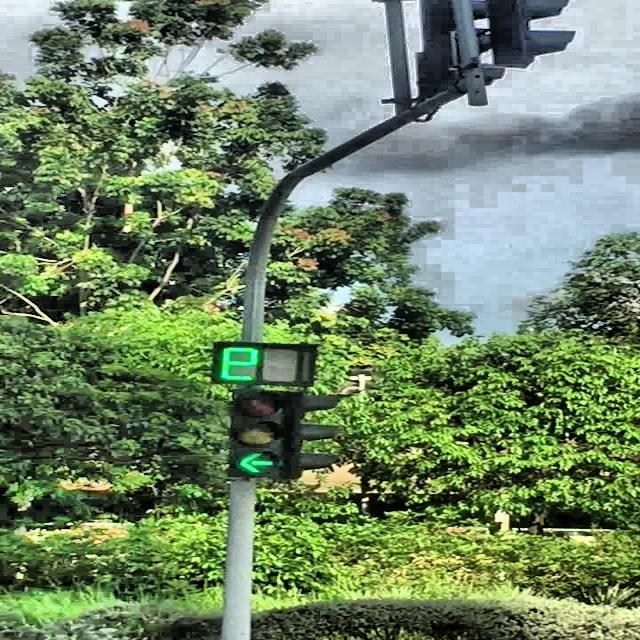green: (231, 389, 281, 479)
